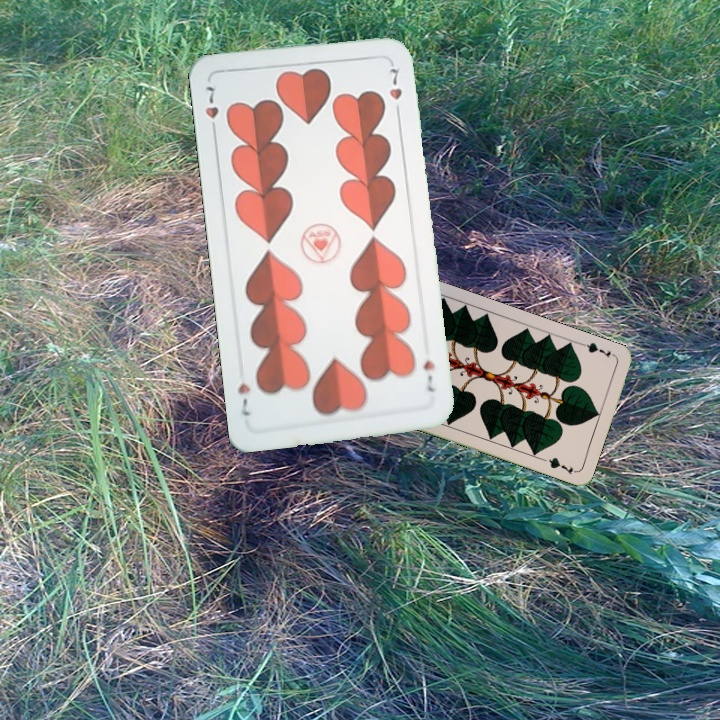G7: (579, 338, 618, 361)
H7: (201, 80, 221, 138), (419, 356, 440, 394)
